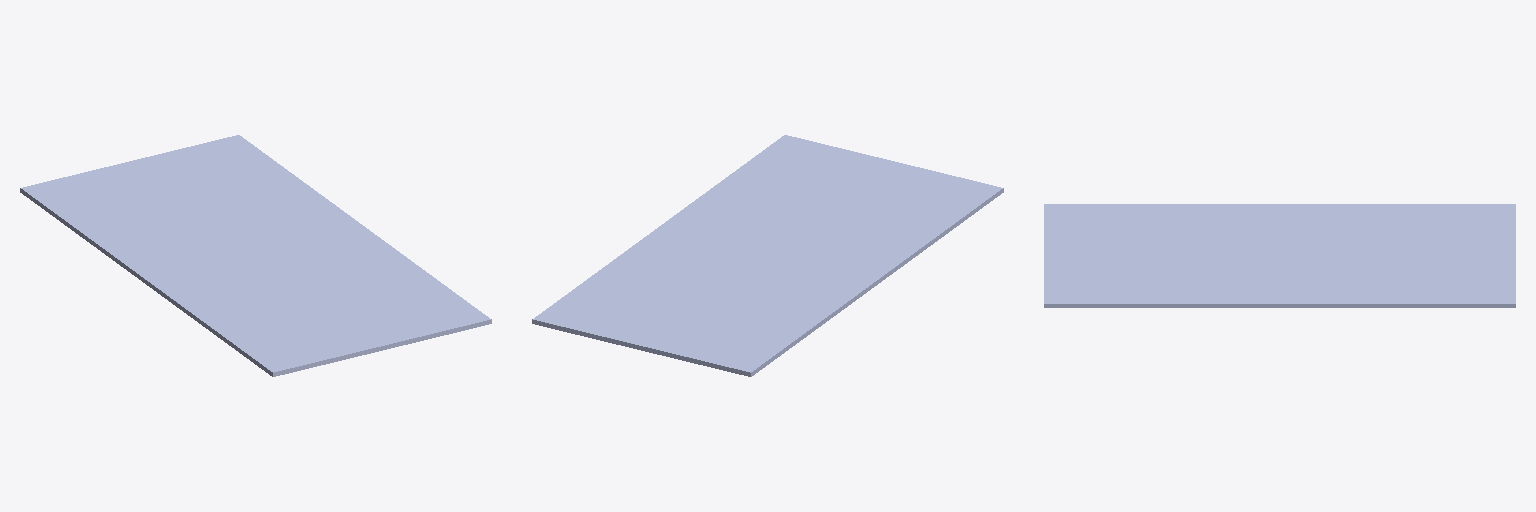
URDF robot description (floorassemblr1038):
<?xml version="1.0" encoding="utf-8"?>
<!-- This URDF was automatically created by SolidWorks to URDF Exporter! Originally created by [author] ([email redacted]) 
     Commit Version: 1.6.0-1-g15f4949  Build Version: 1.6.7594.29634
     For more information, please see http://wiki.ros.org/sw_urdf_exporter -->
<robot
  name="floorassemblr1038">
  <link
    name="base_link">
    <inertial>
      <origin
        xyz="0.14859 0.93208 1.6661"
        rpy="0 0 0" />
      <mass
        value="5" />
      <inertia
        ixx="0.41671"
        ixy="0"
        ixz="1.1565E-18"
        iyy="0.52083"
        iyz="-2.2597E-35"
        izz="0.10421" />
    </inertial>
    <visual>
      <origin
        xyz="0 0 0"
        rpy="0 0 0" />
      <geometry>
        <mesh
          filename="package://floorassemblr1038/meshes/base_link.STL" />
      </geometry>
      <material
        name="">
        <color
          rgba="0.79608 0.82353 0.93725 1" />
      </material>
    </visual>
    <collision>
      <origin
        xyz="0 0 0"
        rpy="0 0 0" />
      <geometry>
        <mesh
          filename="package://floorassemblr1038/meshes/base_link.STL" />
      </geometry>
    </collision>
  </link>
  <link
    name="side">
    <inertial>
      <origin
        xyz="0 0.005 2.2204E-16"
        rpy="0 0 0" />
      <mass
        value="5" />
      <inertia
        ixx="0.41671"
        ixy="0"
        ixz="0"
        iyy="0.52083"
        iyz="-2.903E-35"
        izz="0.10421" />
    </inertial>
    <visual>
      <origin
        xyz="0 0 0"
        rpy="0 0 0" />
      <geometry>
        <mesh
          filename="package://floorassemblr1038/meshes/side.STL" />
      </geometry>
      <material
        name="">
        <color
          rgba="0.79608 0.82353 0.93725 1" />
      </material>
    </visual>
    <collision>
      <origin
        xyz="0 0 0"
        rpy="0 0 0" />
      <geometry>
        <mesh
          filename="package://floorassemblr1038/meshes/side.STL" />
      </geometry>
    </collision>
  </link>
  <joint
    name="side"
    type="fixed">
    <origin
      xyz="0.64859 -1.6661 0.92708"
      rpy="1.5708 0 0" />
    <parent
      link="base_link" />
    <child
      link="side" />
    <axis
      xyz="0 0 0" />
  </joint>
</robot>

--- What the picture shows (computed from the rendered views, not written in the file) ---
The picture shows the robot from 3 angles, left to right: view 1: azimuth 30°, elevation 25°; view 2: azimuth 150°, elevation 25°; view 3: azimuth 270°, elevation 25°; orthographic projection.
Robot: floorassemblr1038 — 2 links, 1 joints (1 fixed); root link base_link; default pose: all joints at 0.
Links seen in each view (by area): view 1: side; view 2: side; view 3: side.
Link boxes in pixels (x1,y1,x2,y2): side: [20, 135, 491, 376]; side: [532, 135, 1003, 376]; side: [1044, 204, 1515, 307].
Bounding box of the posed robot: 0.5 × 1 × 0.01 m (x, y, z).
1 mesh visuals loaded from 2 distinct referenced files (1 binary STL); not drawn: 1 (reference not matched to a file when rendering).